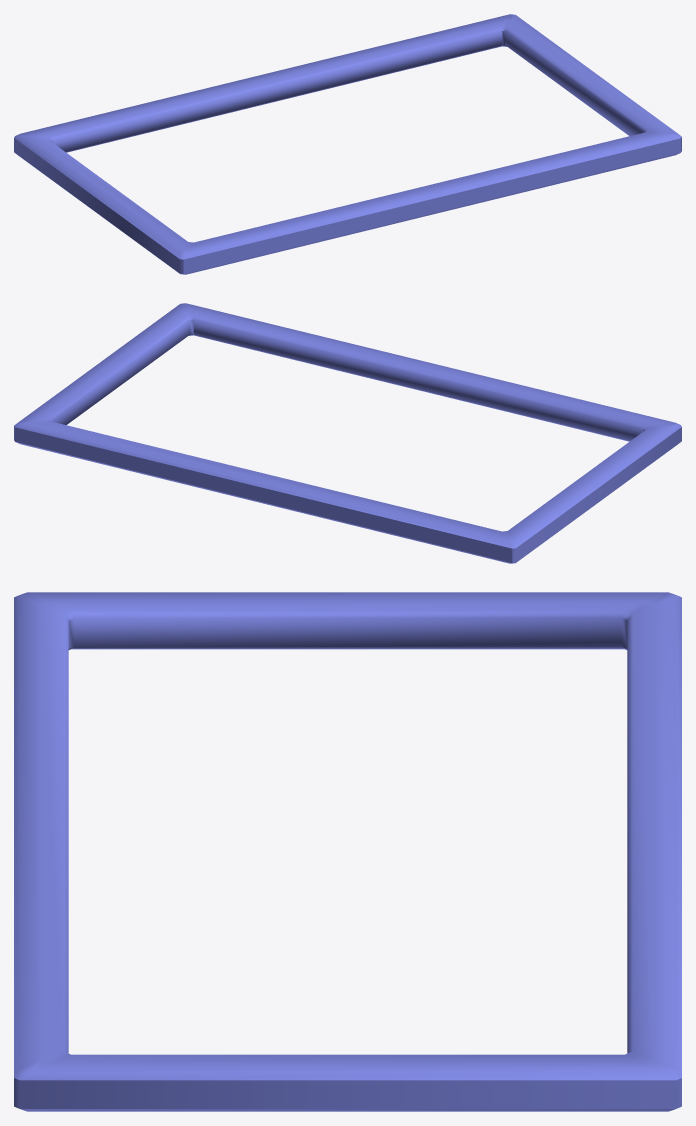
Rendered from window-line.fbx.
3 renders of one model, top to bottom at view 1: azimuth 30°, elevation 25°; view 2: azimuth 150°, elevation 25°; view 3: azimuth 270°, elevation 25°, orthographic. The views are drawn at different scales.
Parts seen in each view (by area): view 1: Cube; view 2: Cube; view 3: Cube.
Part boxes in pixels (x1,y1,x2,y2): Cube: [14, 14, 681, 274]; Cube: [14, 303, 681, 563]; Cube: [14, 592, 681, 1111].
Bounding box in the file's own units: 944 × 35.27 × 549.
